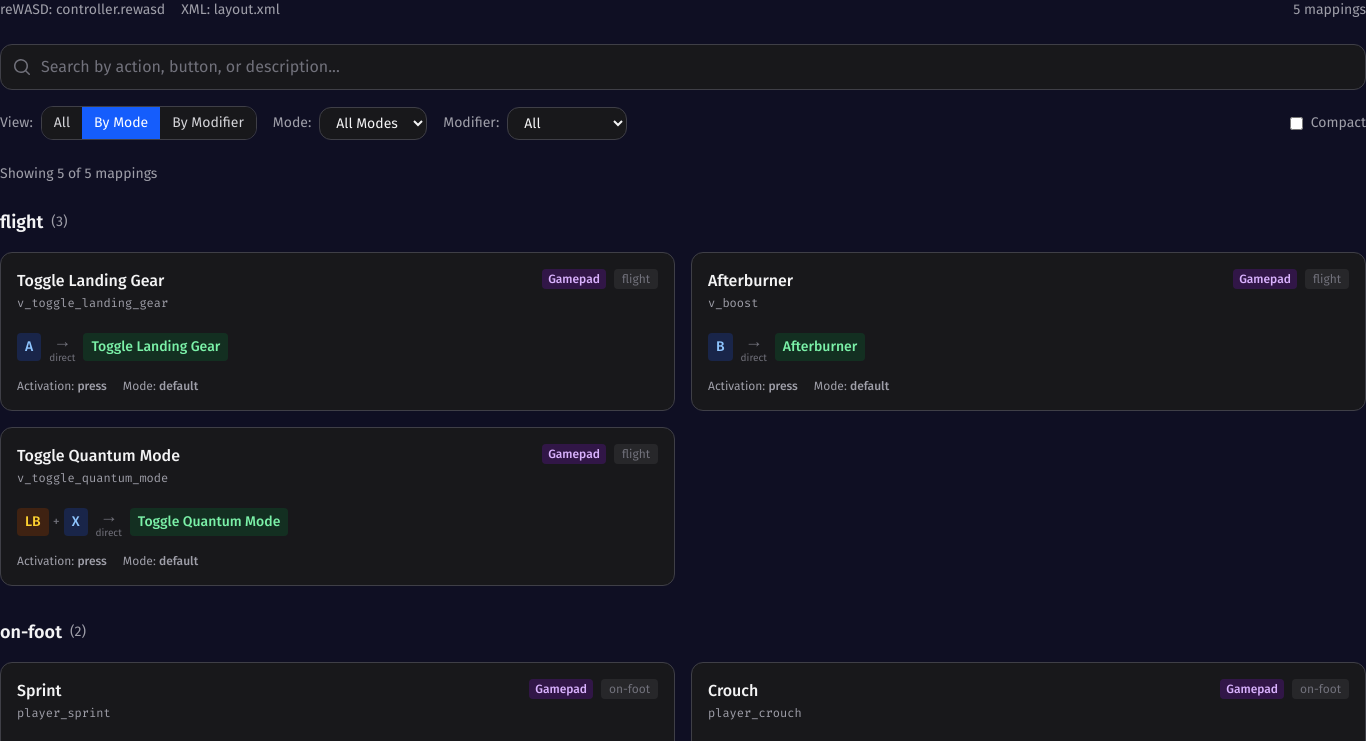
Scenario: MappingBrowser › search › shows empty state when search has no results
Step 1. Type "nonexistent" into the field with placeholder "Search by action, button, or description..." → (683, 67), box [0,44,1365,90]
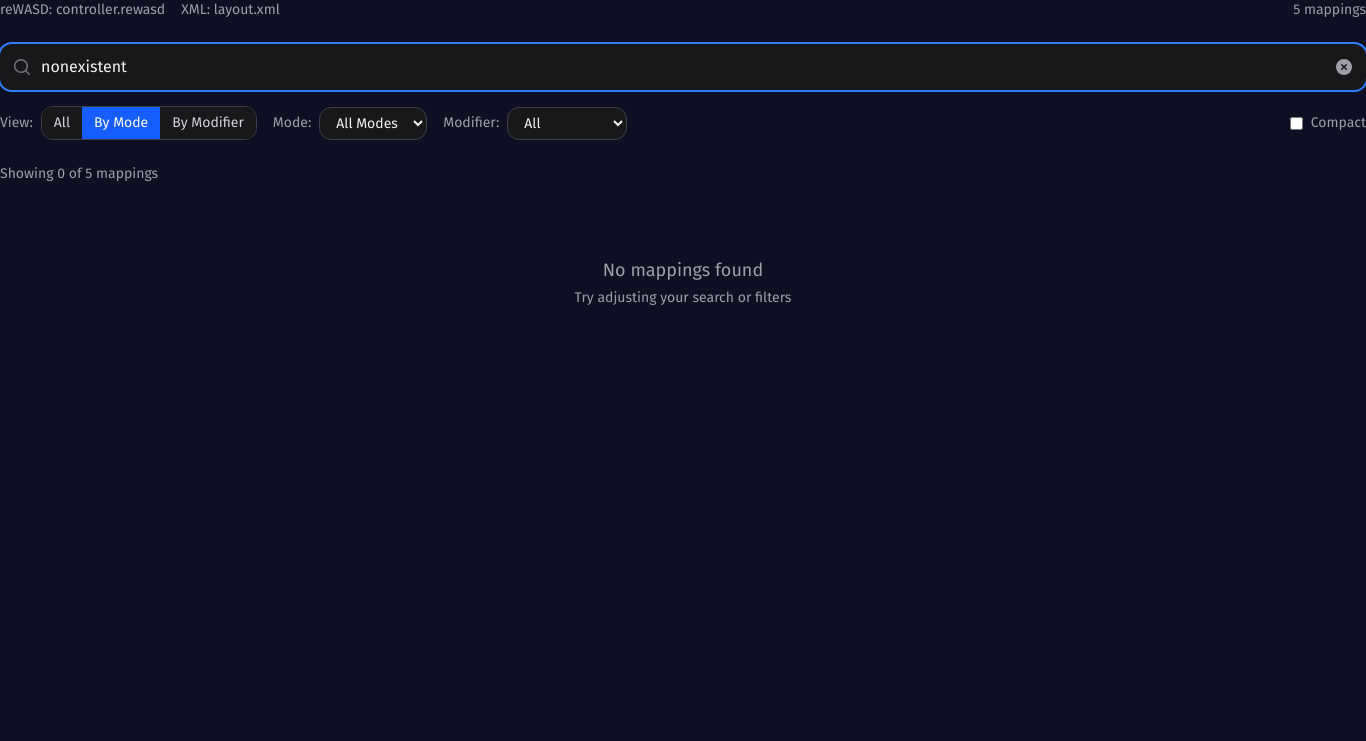
Check: the text "No mappings found" is shown, box [603,259,763,281]
Check: the text "Try adjusting your search or filters" is shown, box [575,289,791,306]
